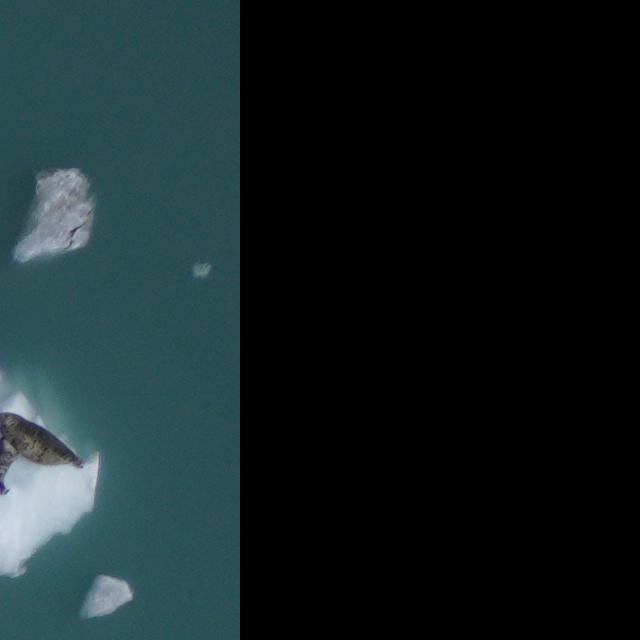seal: (0, 408, 92, 482), (0, 439, 21, 499)
